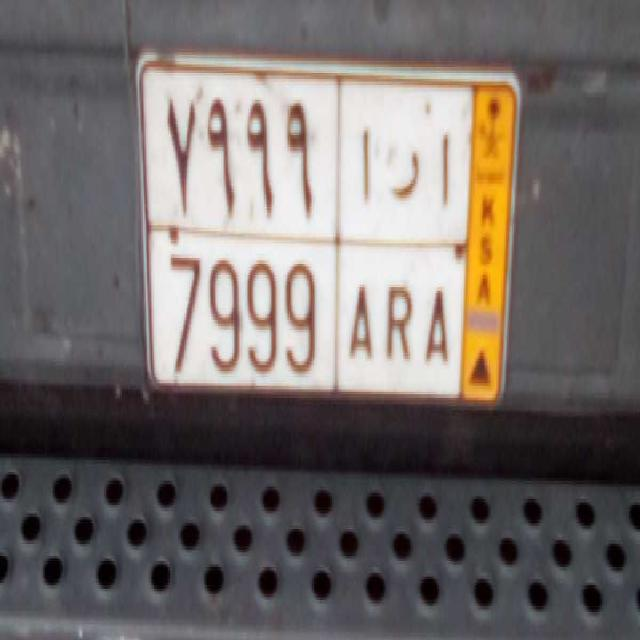license_plate: (146, 223, 465, 398)
